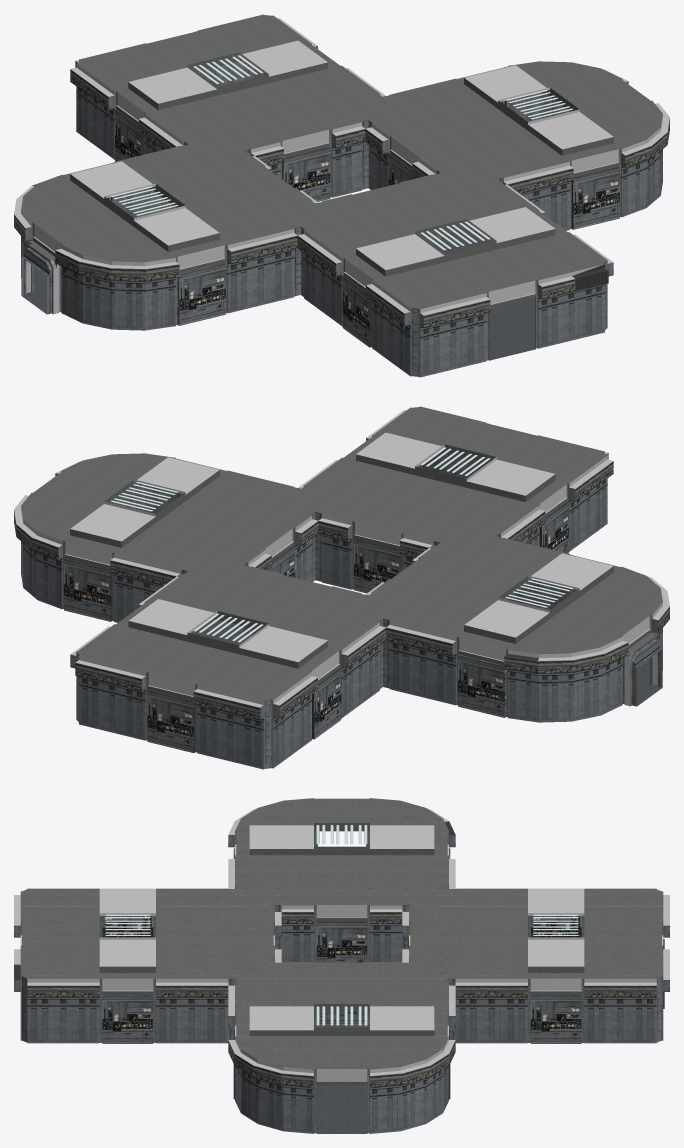
Rendered from poi_all_impl_bunker_small_outpost_s01_r29_computer_room_mesh.fbx.
The picture shows the model from 3 angles, top to bottom: view 1: azimuth 30°, elevation 25°; view 2: azimuth 150°, elevation 25°; view 3: azimuth 270°, elevation 25°; orthographic projection. The views are drawn at different scales.
Parts seen in each view (by area): view 1: mesh_node; view 2: mesh_node; view 3: mesh_node.
Boxes of the visible parts, box(x1,y1,x2,y2) form: mesh_node: box(14, 14, 669, 377); mesh_node: box(14, 406, 669, 769); mesh_node: box(14, 798, 669, 1133).
Size of the model in its own units: 49.5 by 6 by 49.
